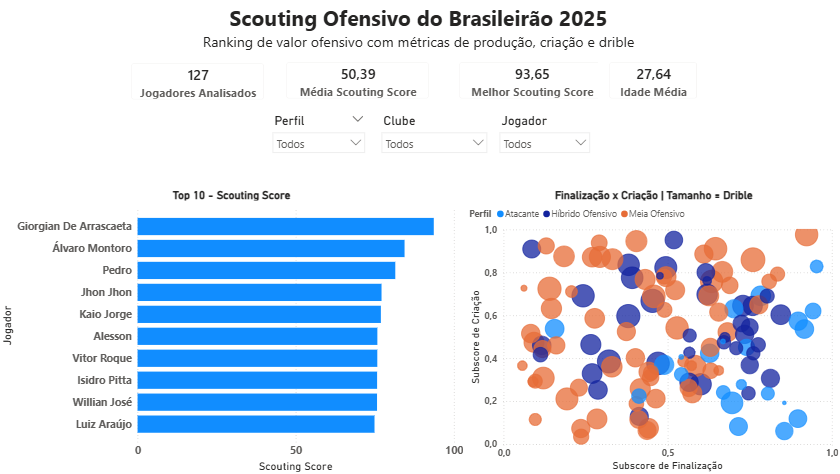

The page's visual inventory and layout, read from the dashboard file:
{"tool":"powerbi","page":{"name":"Visão Geral do Scouting","canvas":[1280,720],"ordinal":0},"visuals":[{"type":"textbox","box":[297.1,0,683.4,96.6],"z":0},{"type":"cardVisual","fields":{"Data":["scouting_score_2025.Jogadores Analisados"]},"box":[186,78.1,236,89.1],"z":1000},{"type":"cardVisual","fields":{"Data":["scouting_score_2025.Média Scouting Score"]},"box":[421.5,77.6,250.2,89.3],"z":2000},{"type":"cardVisual","fields":{"Data":["scouting_score_2025.Melhor Scouting Score"]},"box":[683,76.6,254.7,89.1],"z":3000},{"type":"cardVisual","fields":{"Data":["scouting_score_2025.Idade Média"]},"box":[911.2,76.6,167.2,89.1],"z":4000},{"type":"slicer","fields":{"Values":["scouting_score_2025.Perfil"]},"box":[406.8,166.8,159.5,71.7],"z":5000},{"type":"slicer","fields":{"Values":["scouting_score_2025.Clube"]},"box":[572.2,166.8,180,71.7],"z":6000},{"type":"slicer","fields":{"Values":["scouting_score_2025.Jogador"]},"box":[752.2,166.8,156.6,71.7],"z":7000},{"type":"barChart","title":"Top 10 - Scouting Score","fields":{"Category":["scouting_score_2025.Jogador"],"Y":["Sum(scouting_score_2025.Scouting Score)"]},"box":[0,285.4,711.2,434.6],"z":8000},{"type":"scatterChart","title":"Finalização x Criação | Tamanho = Drible","fields":{"X":["Avg(scouting_score_2025.Subscore_Finalizacao)"],"Y":["Avg(scouting_score_2025.Subscore_Criacao)"],"Size":["Avg(scouting_score_2025.Subscore_Drible)"],"Series":["scouting_score_2025.Perfil"],"Category":["scouting_score_2025.Jogador"]},"box":[711.2,285.4,569.3,434.6],"z":9000}]}

Visuals, with their boxes in screenshot pixels (x1, y1, x2, y2), scaled from the page's 1280x720 canvas onto the 840x474 screenshot:
textbox: x1=195, y1=0, x2=643, y2=64
cardVisual - scouting_score_2025.Jogadores Analisados: x1=122, y1=51, x2=277, y2=110
cardVisual - scouting_score_2025.Média Scouting Score: x1=277, y1=51, x2=441, y2=110
cardVisual - scouting_score_2025.Melhor Scouting Score: x1=448, y1=50, x2=615, y2=109
cardVisual - scouting_score_2025.Idade Média: x1=598, y1=50, x2=708, y2=109
slicer - scouting_score_2025.Perfil: x1=267, y1=110, x2=372, y2=157
slicer - scouting_score_2025.Clube: x1=376, y1=110, x2=494, y2=157
slicer - scouting_score_2025.Jogador: x1=494, y1=110, x2=596, y2=157
"Top 10 - Scouting Score" barChart: x1=0, y1=188, x2=467, y2=473
"Finalização x Criação | Tamanho = Drible" scatterChart: x1=467, y1=188, x2=839, y2=473
